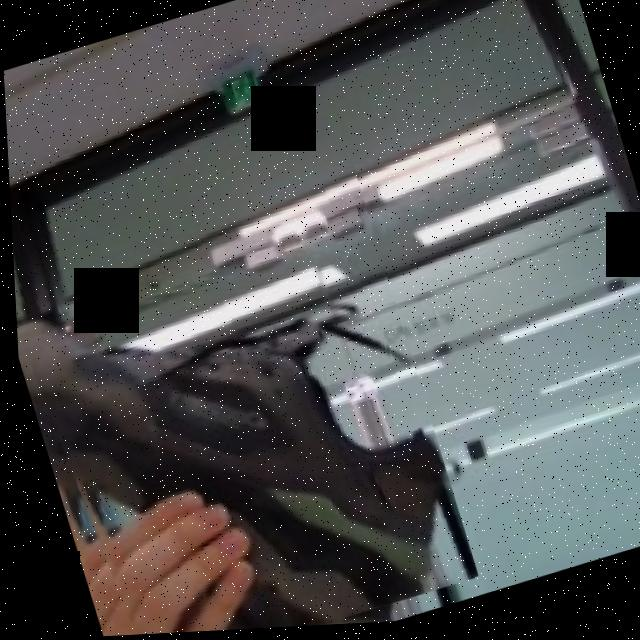shoe: (6, 133, 474, 640)
